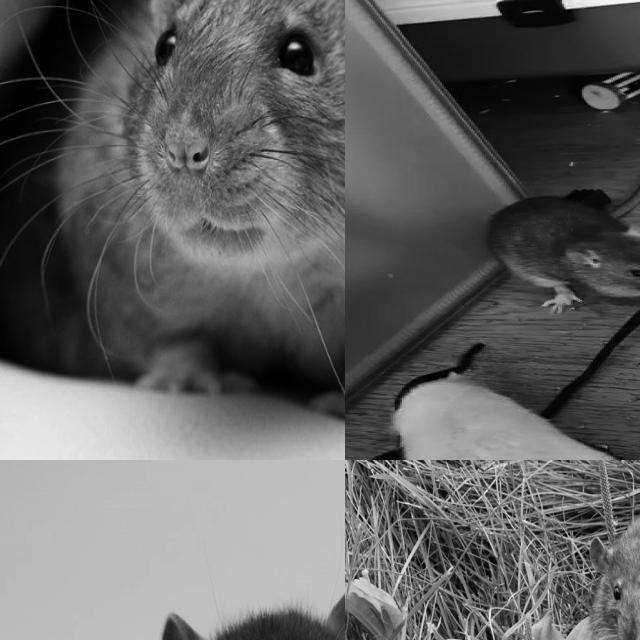rat: (91, 0, 345, 423), (395, 367, 640, 460), (488, 195, 640, 316), (99, 584, 345, 640), (588, 512, 640, 640)
